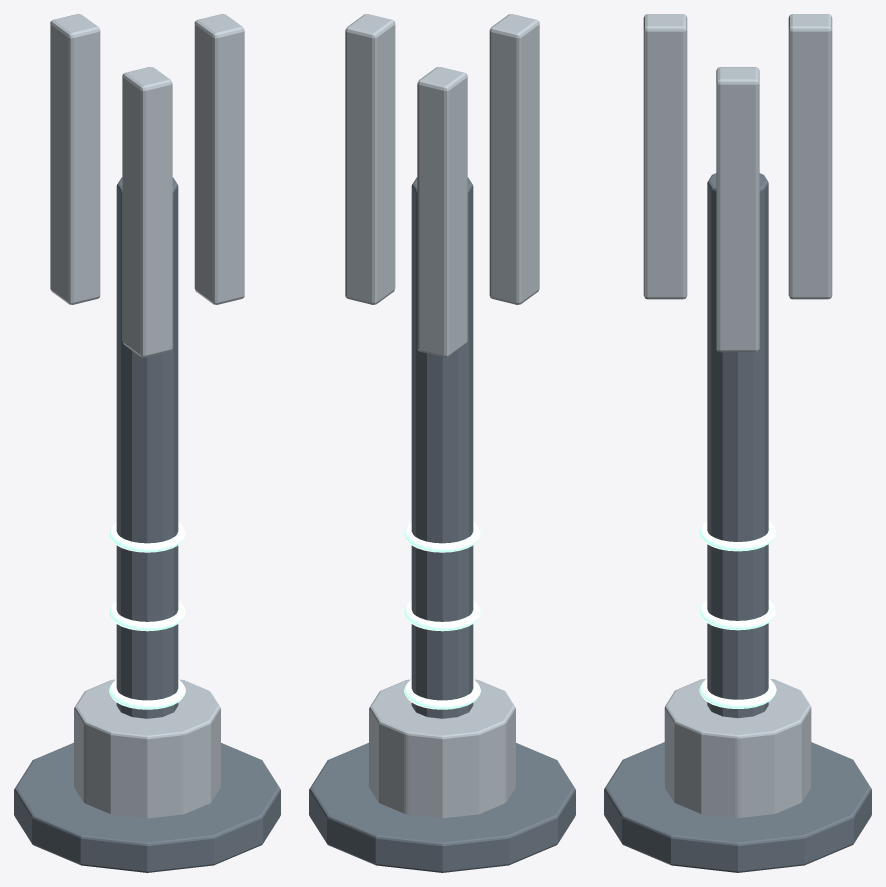
The model's file is golden_relay.glb.
3 renders of one model, left to right at view 1: azimuth 30°, elevation 25°; view 2: azimuth 150°, elevation 25°; view 3: azimuth 270°, elevation 25°, orthographic.
Visible parts, largest first — view 1: GS_Relay_Column_DarkMetal, GS_Relay_Foot_DarkMetal, GS_Relay_Shoulder_SecondaryMetal, GS_Relay_Prong0_SecondaryMetal, GS_Relay_Prong1_SecondaryMetal, GS_Relay_Prong2_SecondaryMetal, GS_Relay_RelayBand3.4_EnergyGreen, GS_Relay_RelayBand4.7_EnergyGreen, GS_Relay_RelayBand2.1_EnergyGreen; view 2: GS_Relay_Column_DarkMetal, GS_Relay_Foot_DarkMetal, GS_Relay_Shoulder_SecondaryMetal, GS_Relay_Prong0_SecondaryMetal, GS_Relay_Prong1_SecondaryMetal, GS_Relay_Prong2_SecondaryMetal, GS_Relay_RelayBand3.4_EnergyGreen, GS_Relay_RelayBand4.7_EnergyGreen, GS_Relay_RelayBand2.1_EnergyGreen; view 3: GS_Relay_Column_DarkMetal, GS_Relay_Foot_DarkMetal, GS_Relay_Shoulder_SecondaryMetal, GS_Relay_Prong1_SecondaryMetal, GS_Relay_Prong2_SecondaryMetal, GS_Relay_Prong0_SecondaryMetal, GS_Relay_RelayBand3.4_EnergyGreen, GS_Relay_RelayBand2.1_EnergyGreen, GS_Relay_RelayBand4.7_EnergyGreen.
Boxes of the visible parts, left/top/right/bottom form: GS_Relay_Column_DarkMetal: left=116, top=177, right=178, bottom=718; GS_Relay_Foot_DarkMetal: left=14, top=743, right=280, bottom=872; GS_Relay_Shoulder_SecondaryMetal: left=74, top=679, right=220, bottom=818; GS_Relay_Prong0_SecondaryMetal: left=194, top=14, right=244, bottom=304; GS_Relay_Prong1_SecondaryMetal: left=50, top=14, right=100, bottom=304; GS_Relay_Prong2_SecondaryMetal: left=122, top=67, right=172, bottom=357; GS_Relay_RelayBand3.4_EnergyGreen: left=109, top=600, right=185, bottom=631; GS_Relay_RelayBand4.7_EnergyGreen: left=109, top=522, right=185, bottom=552; GS_Relay_RelayBand2.1_EnergyGreen: left=109, top=679, right=185, bottom=709; GS_Relay_Column_DarkMetal: left=411, top=177, right=473, bottom=718; GS_Relay_Foot_DarkMetal: left=309, top=743, right=575, bottom=872; GS_Relay_Shoulder_SecondaryMetal: left=369, top=679, right=515, bottom=818; GS_Relay_Prong0_SecondaryMetal: left=345, top=14, right=395, bottom=304; GS_Relay_Prong1_SecondaryMetal: left=417, top=67, right=467, bottom=357; GS_Relay_Prong2_SecondaryMetal: left=489, top=14, right=539, bottom=304; GS_Relay_RelayBand3.4_EnergyGreen: left=404, top=600, right=480, bottom=631; GS_Relay_RelayBand4.7_EnergyGreen: left=404, top=522, right=480, bottom=552; GS_Relay_RelayBand2.1_EnergyGreen: left=404, top=679, right=480, bottom=709; GS_Relay_Column_DarkMetal: left=707, top=173, right=768, bottom=718; GS_Relay_Foot_DarkMetal: left=604, top=742, right=871, bottom=872; GS_Relay_Shoulder_SecondaryMetal: left=664, top=679, right=811, bottom=817; GS_Relay_Prong1_SecondaryMetal: left=788, top=14, right=832, bottom=299; GS_Relay_Prong2_SecondaryMetal: left=643, top=14, right=687, bottom=299; GS_Relay_Prong0_SecondaryMetal: left=716, top=67, right=759, bottom=352; GS_Relay_RelayBand3.4_EnergyGreen: left=699, top=599, right=776, bottom=630; GS_Relay_RelayBand2.1_EnergyGreen: left=699, top=678, right=776, bottom=708; GS_Relay_RelayBand4.7_EnergyGreen: left=699, top=521, right=776, bottom=551.
Bounding box in the file's own units: 4 × 12.85 × 4.
